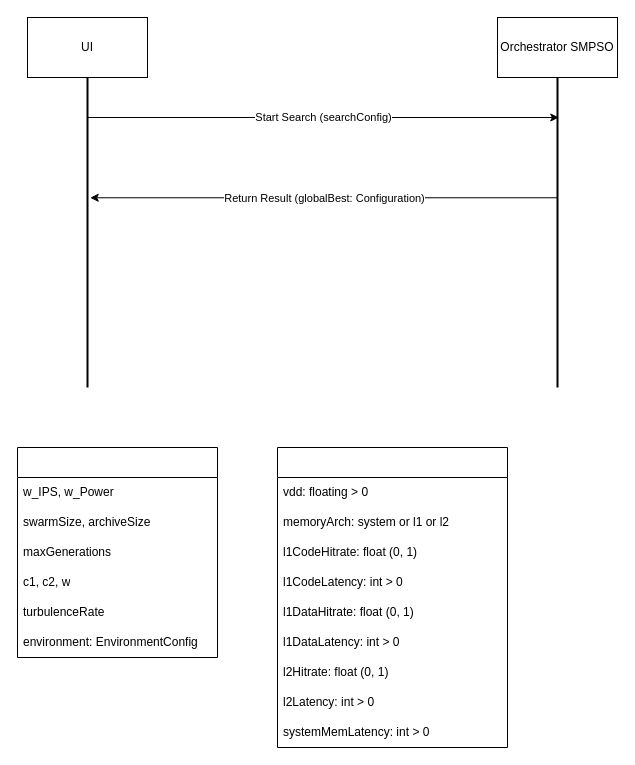
Image size: 635x765. Some labels were removed from this diagram. The box of each missing label's shape, as (x1, y1, x2, y2) in pixels:
EnvironmentConfig: (276, 446, 508, 748)
searchConfig: (16, 446, 218, 658)
